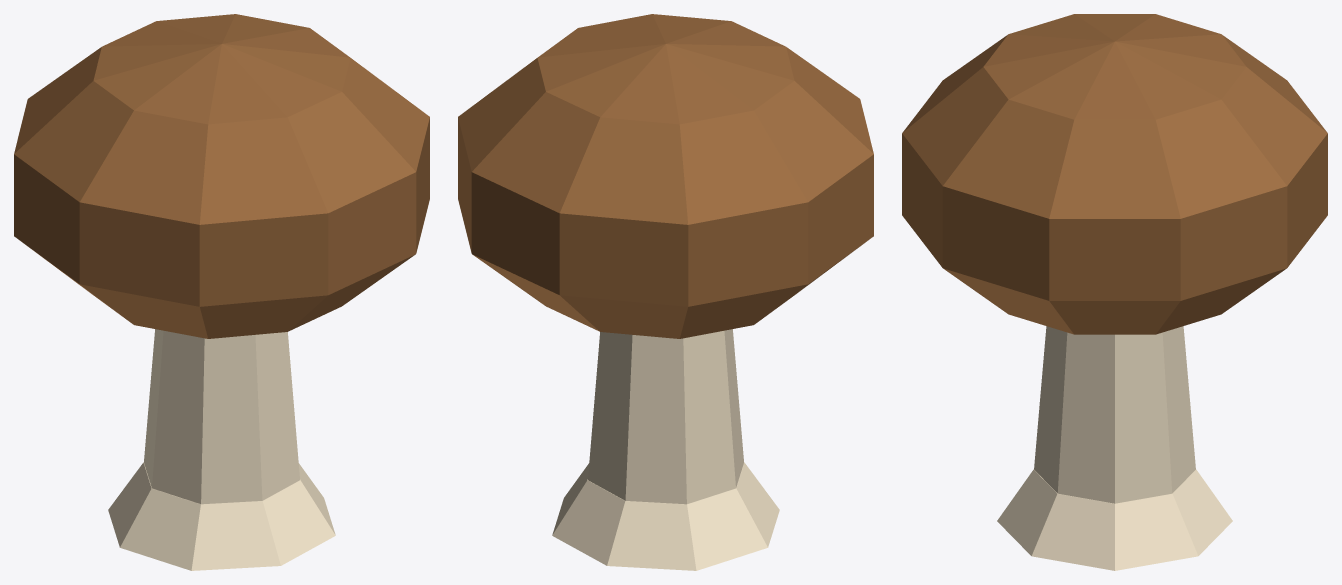
The model's file is cogumelo_marrom.glb.
3 renders of one model, left to right at view 1: azimuth 30°, elevation 25°; view 2: azimuth 150°, elevation 25°; view 3: azimuth 270°, elevation 25°, orthographic.
Visible parts, largest first — view 1: Cogumelo_Chapeu, Cogumelo_Haste, Cogumelo_Haste_Base; view 2: Cogumelo_Chapeu, Cogumelo_Haste, Cogumelo_Haste_Base; view 3: Cogumelo_Chapeu, Cogumelo_Haste, Cogumelo_Haste_Base.
Boxes of the visible parts, x1=… form: Cogumelo_Chapeu: x1=14, y1=14, x2=429, y2=338; Cogumelo_Haste: x1=144, y1=329, x2=299, y2=504; Cogumelo_Haste_Base: x1=108, y1=462, x2=335, y2=570; Cogumelo_Chapeu: x1=458, y1=14, x2=873, y2=338; Cogumelo_Haste: x1=588, y1=329, x2=743, y2=504; Cogumelo_Haste_Base: x1=552, y1=462, x2=779, y2=570; Cogumelo_Chapeu: x1=902, y1=14, x2=1327, y2=334; Cogumelo_Haste: x1=1034, y1=326, x2=1195, y2=503; Cogumelo_Haste_Base: x1=997, y1=469, x2=1232, y2=570.
Size of the model in its own units: 0.4975 by 0.65 by 0.5231.
